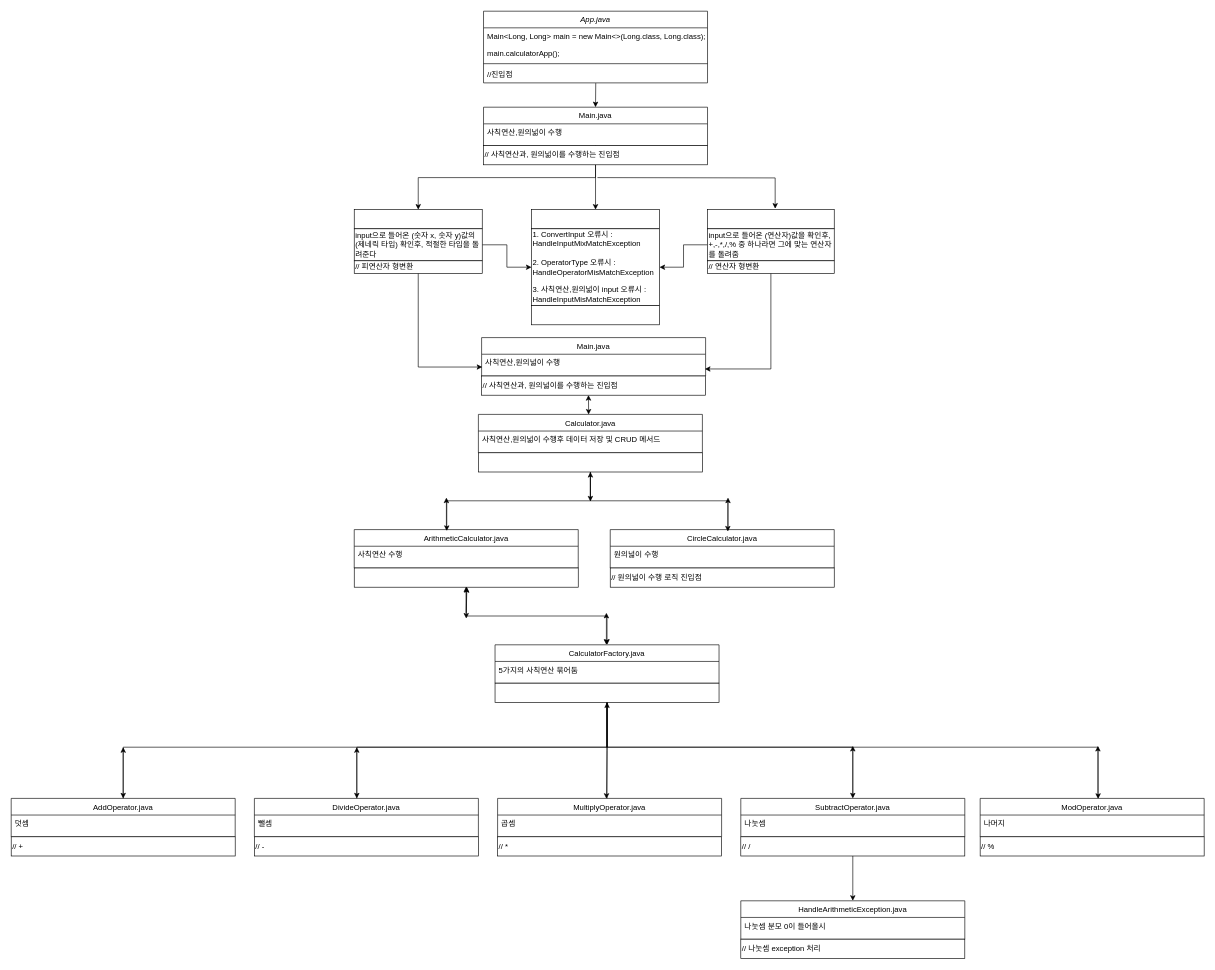
Image size: 1215x970. Some labels were removed from this diagram. Each missing label, with the centre of its shape:
"// exception 처리" goes at point (595, 315).
"// 데이터 저장 및 CRUD 메서드 수행" goes at point (590, 462).
"// 사칙연산 수행 로직 진입점" goes at point (466, 577).
"// 사칙연산 수행 묶기" goes at point (606, 692).
"ConvertInput.java" goes at point (418, 219).
"Exceoptions" goes at point (595, 219).
"OperatorType.java" goes at point (770, 219).
